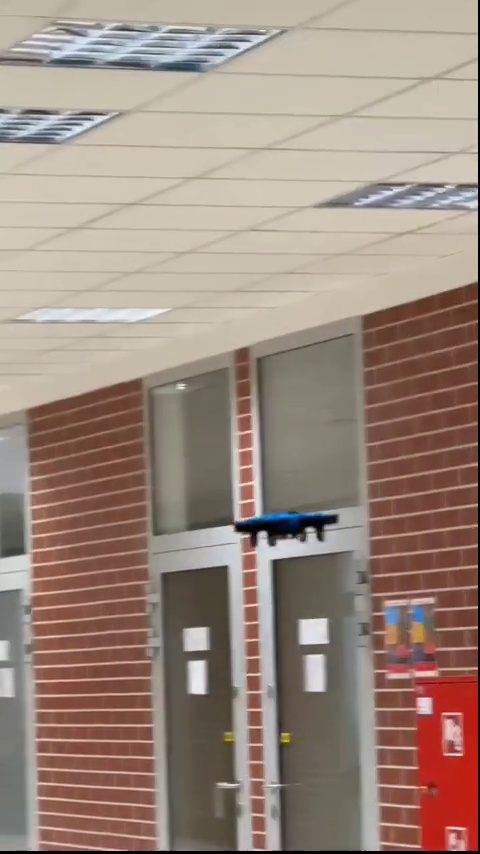drone: (239, 510, 342, 552)
